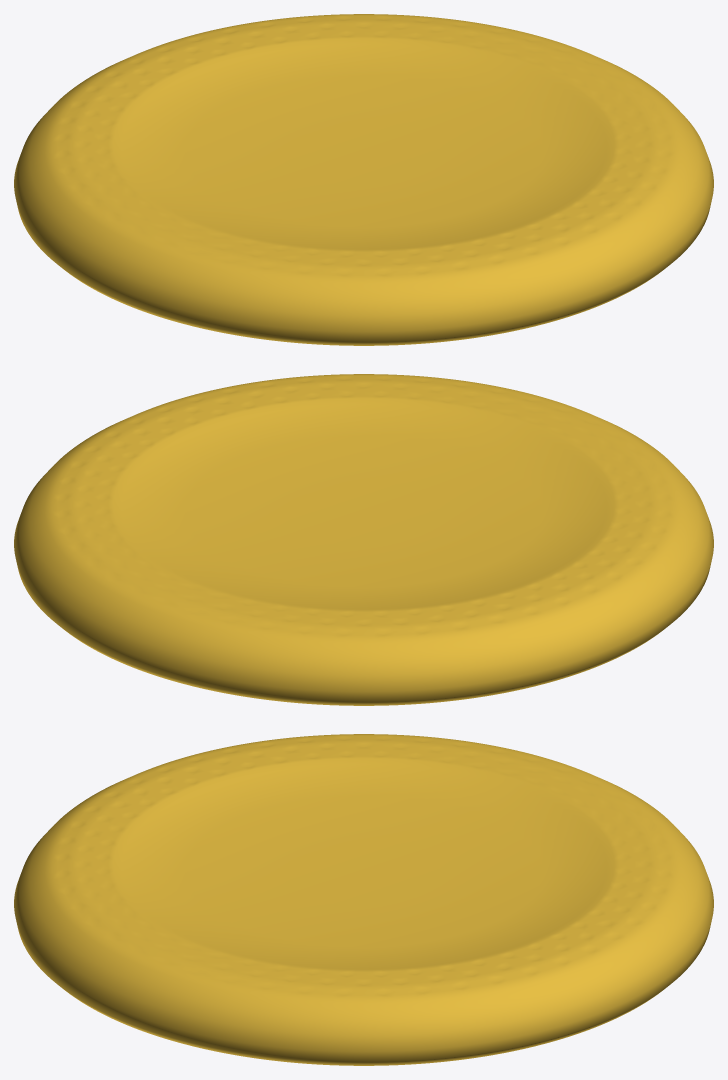
The model's file is A-NEW-20261026-FLYING-DISC-001_LOD0_R1.glb.
The picture shows the model from 3 angles, top to bottom: view 1: azimuth 30°, elevation 25°; view 2: azimuth 150°, elevation 25°; view 3: azimuth 270°, elevation 25°; orthographic projection.
Visible parts, largest first — view 1: hollow flying disc; view 2: hollow flying disc; view 3: hollow flying disc.
Part boxes in pixels (<box>): hollow flying disc: <box>14,14,713,345</box>; hollow flying disc: <box>14,374,713,705</box>; hollow flying disc: <box>14,734,713,1065</box>.
Size of the model in its own units: 0.274 by 0.025 by 0.274.
